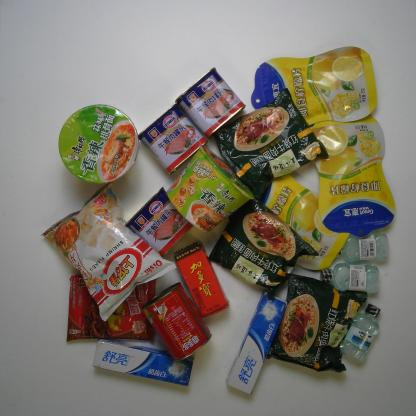Canned Food: (140, 281, 212, 364), (137, 102, 209, 177), (174, 66, 246, 141), (124, 185, 194, 258)
Dessert: (66, 274, 156, 343)
Dried Fruit: (310, 114, 396, 239), (250, 45, 378, 127), (257, 173, 350, 272)
Drink: (174, 240, 231, 320)
Instant Noodles: (212, 86, 330, 200), (208, 198, 320, 300), (265, 272, 368, 374), (166, 143, 257, 234), (58, 103, 140, 185)
Personal Hygiene: (225, 289, 289, 395), (92, 338, 196, 387), (338, 302, 382, 364), (320, 262, 380, 295), (338, 230, 389, 264)
Puffed Food: (40, 181, 177, 323)
